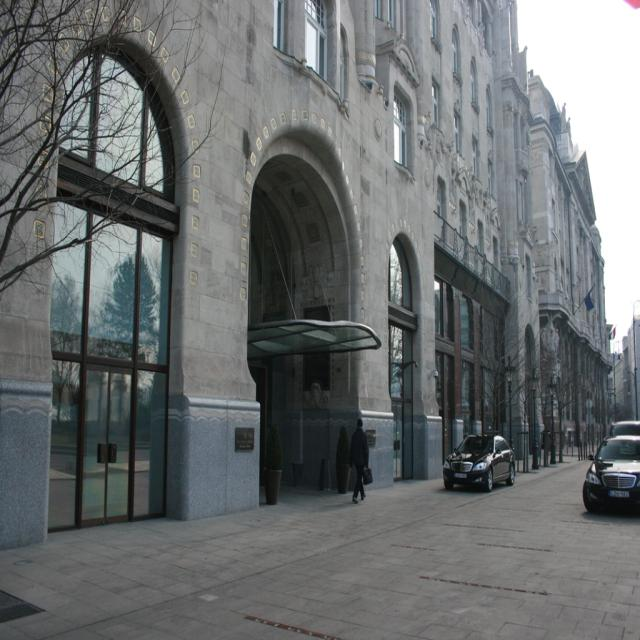car: (441, 433, 514, 490)
